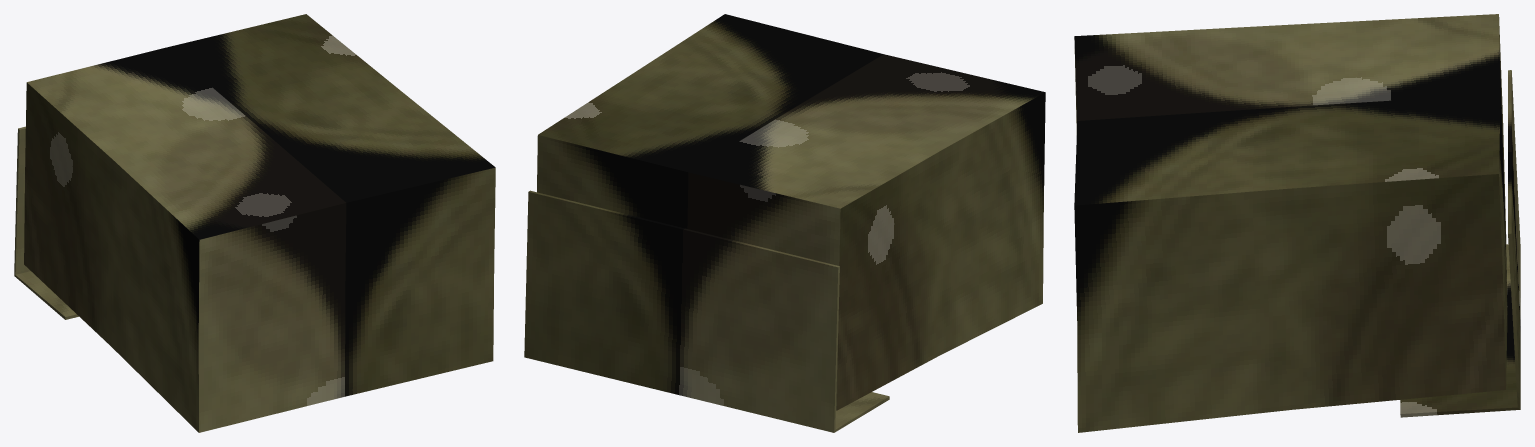
The model's file is pack_medical.glb.
3 renders of one model, left to right at view 1: azimuth 30°, elevation 25°; view 2: azimuth 150°, elevation 25°; view 3: azimuth 270°, elevation 25°, orthographic. The views are drawn at different scales.
Parts seen in each view (by area): view 1: pack_worn_medical; view 2: pack_worn_medical; view 3: pack_worn_medical.
Boxes of the visible parts, <box> form: pack_worn_medical: <box>14,14,495,432</box>; pack_worn_medical: <box>524,14,1045,432</box>; pack_worn_medical: <box>1074,14,1520,432</box>.
Bounding box in the file's own units: 0.3263 × 0.2293 × 0.3631.
1 material, 1 textured.
